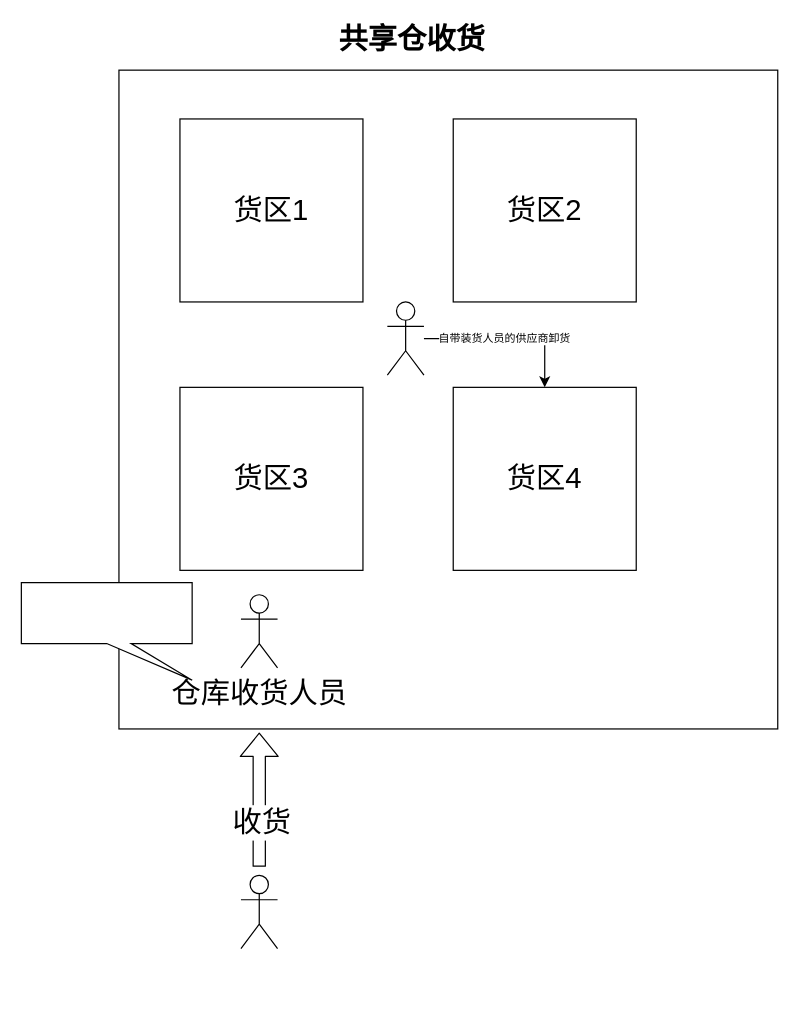
The diagram is 799 pixels wide and 1013 high, and some of its shapes have lost their labels. Each missing label, with the centre of its shape:
"供应商送的商品是否有委托关系， 有委托才能收货" goes at point (106, 630).
"供应商送货人员" goes at point (259, 911).
"送货人员" goes at point (405, 338).
